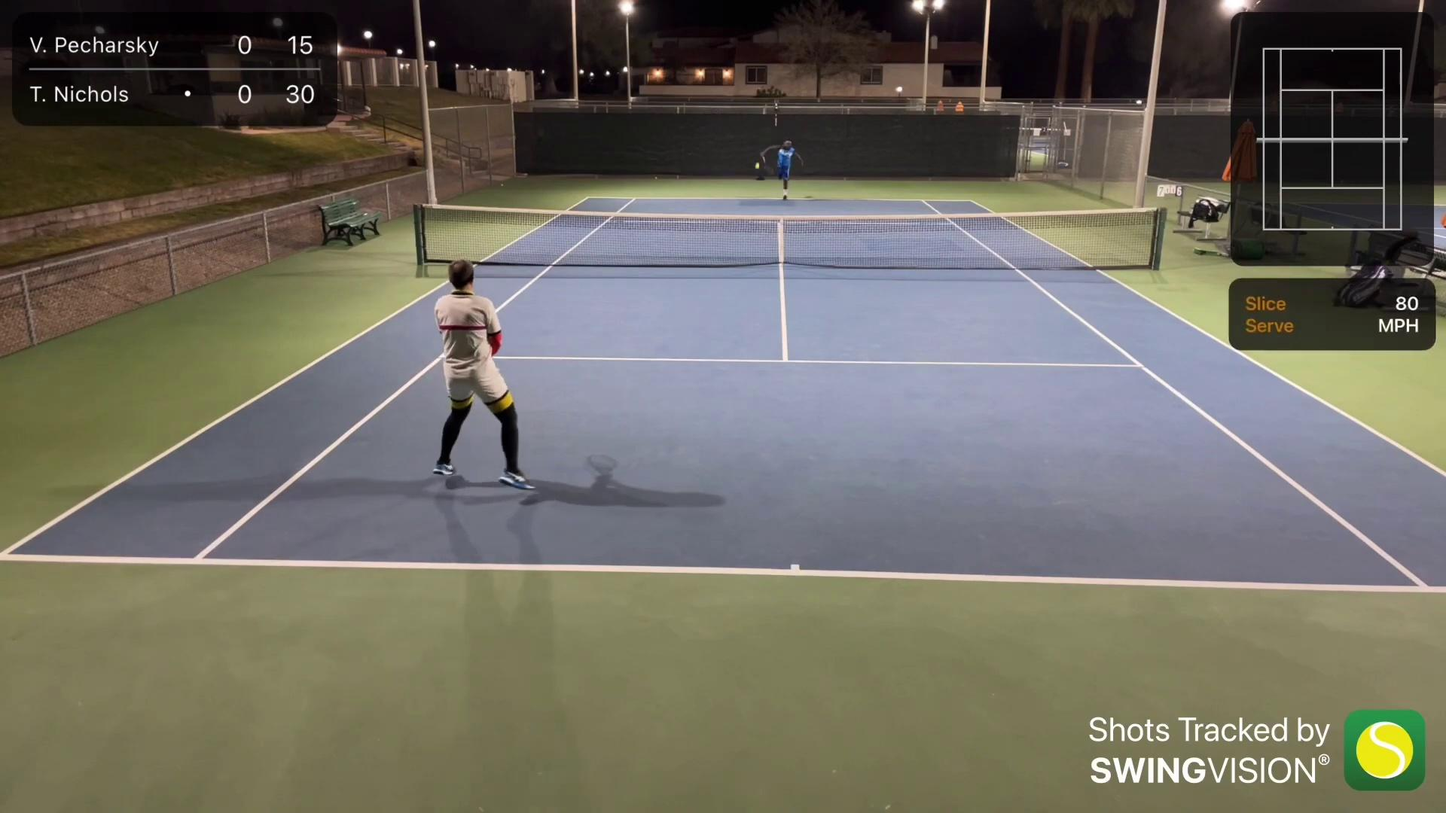ball: (754, 164, 761, 171)
